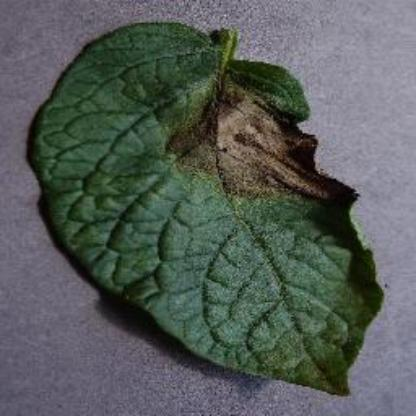Late-Blight: (26, 13, 392, 404)
